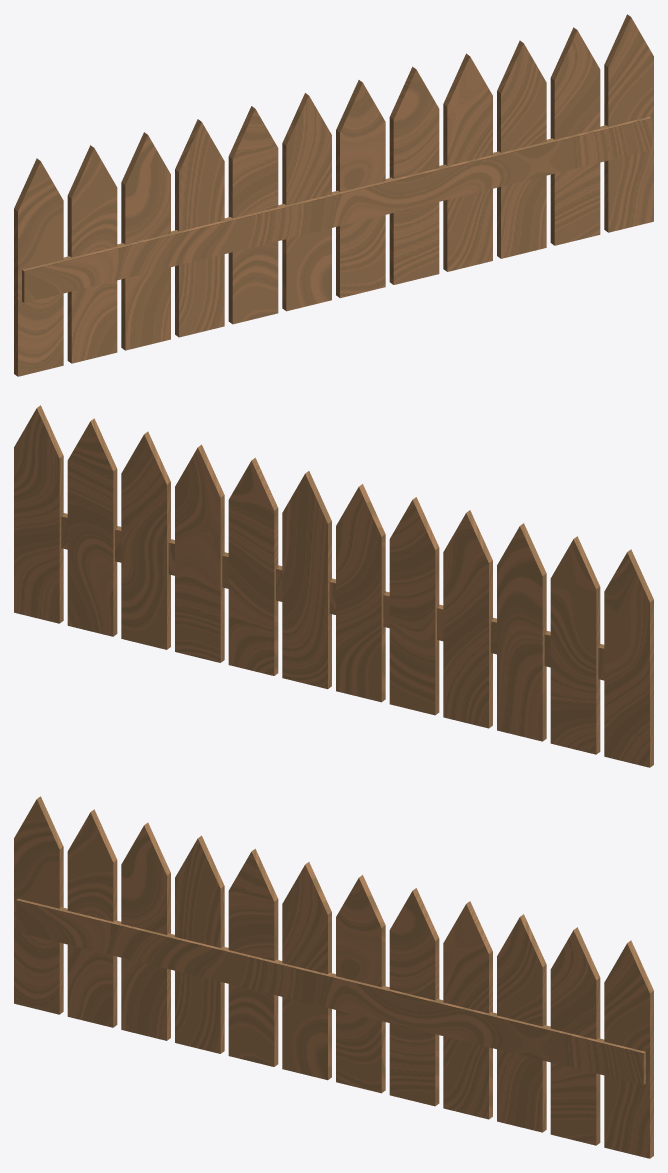
File: Fence.fbx
The picture shows the model from 3 angles, top to bottom: view 1: azimuth 30°, elevation 25°; view 2: azimuth 150°, elevation 25°; view 3: azimuth 330°, elevation 25°; orthographic projection.
Visible parts, largest first — view 1: Fence; view 2: Fence; view 3: Fence.
Part boxes in pixels (bbox=[...]): Fence: bbox=[14, 14, 653, 376]; Fence: bbox=[14, 405, 653, 767]; Fence: bbox=[14, 796, 653, 1158].
Bounding box in the file's own units: 139 × 44.03 × 2.29.
